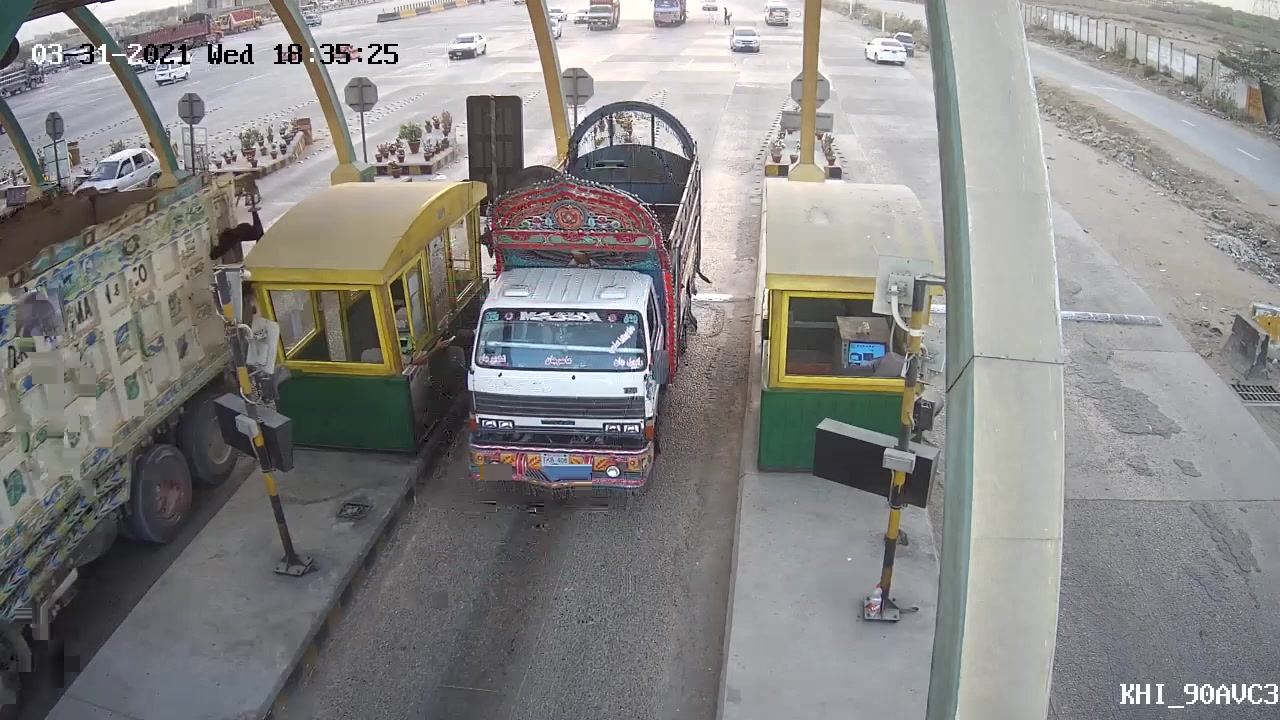F3: (461, 91, 713, 505)
